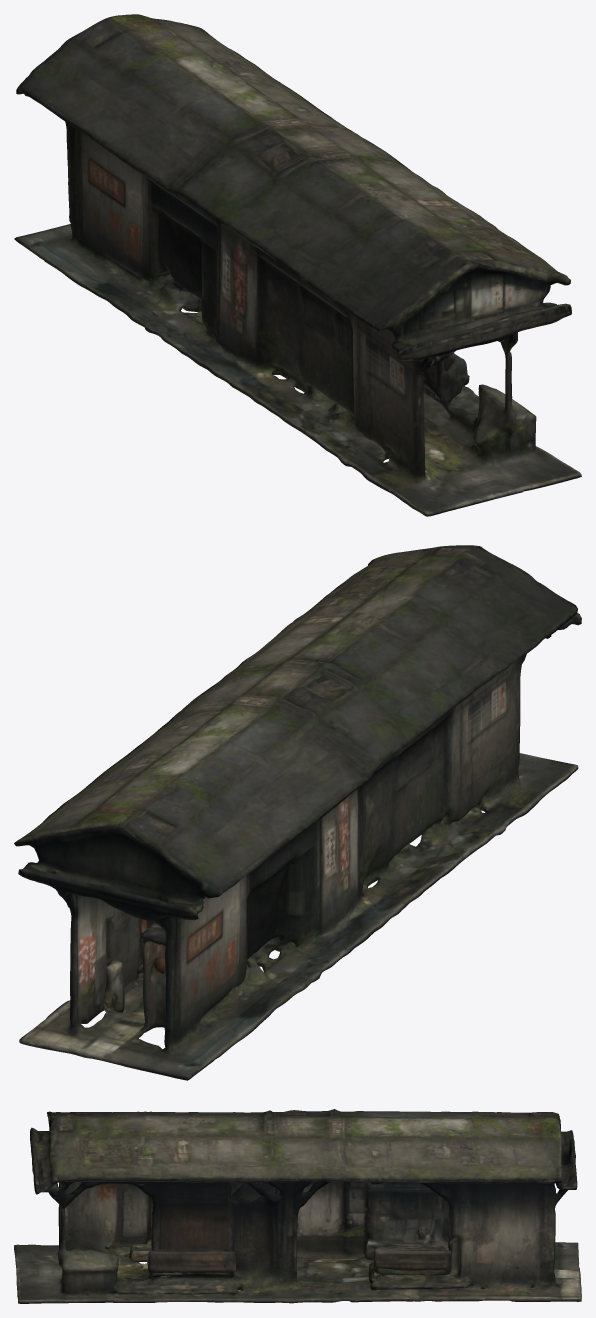
The model's file is Train_station_perron_0423100027_texture.fbx.
3 views of the same model, one above another, from view 1: azimuth 30°, elevation 25°; view 2: azimuth 150°, elevation 25°; view 3: azimuth 270°, elevation 25° (orthographic). The views are drawn at different scales.
Visible parts, largest first — view 1: Mesh1; view 2: Mesh1; view 3: Mesh1.
Part boxes in pixels (x1,y1,x2,y2): Mesh1: (14, 14, 581, 516); Mesh1: (14, 545, 581, 1080); Mesh1: (14, 1109, 581, 1303).
Bounding box in the file's own units: 60.12 × 62.84 × 200.
1 material, 1 textured.
